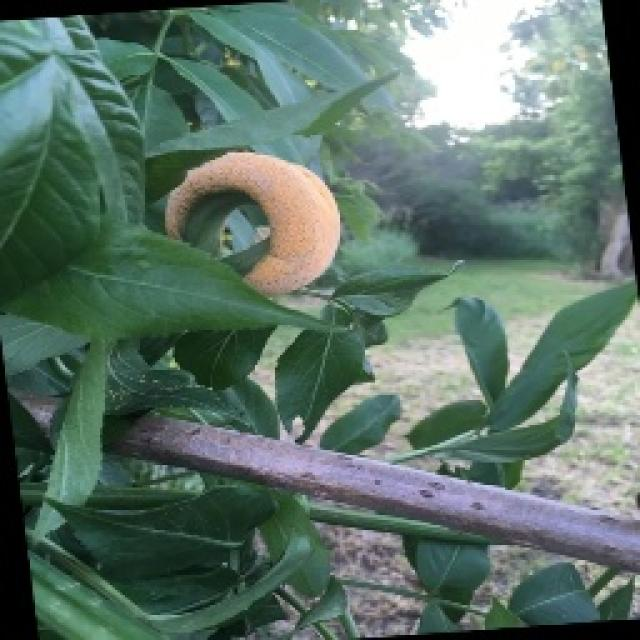Elderberry_rust: (150, 152, 371, 307)
